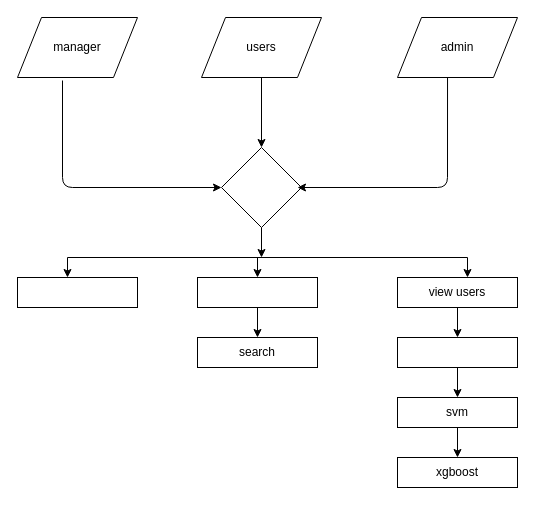
Some shapes in this 535 by 505 pixel diagram are drawn without their labels. The shapes that lost their labels are listed below. From the top down, each one's centre as x and y in pixels, then its label:
(x=261, y=187): check
(x=77, y=292): file upload
(x=257, y=292): page rank
(x=457, y=352): view managers
